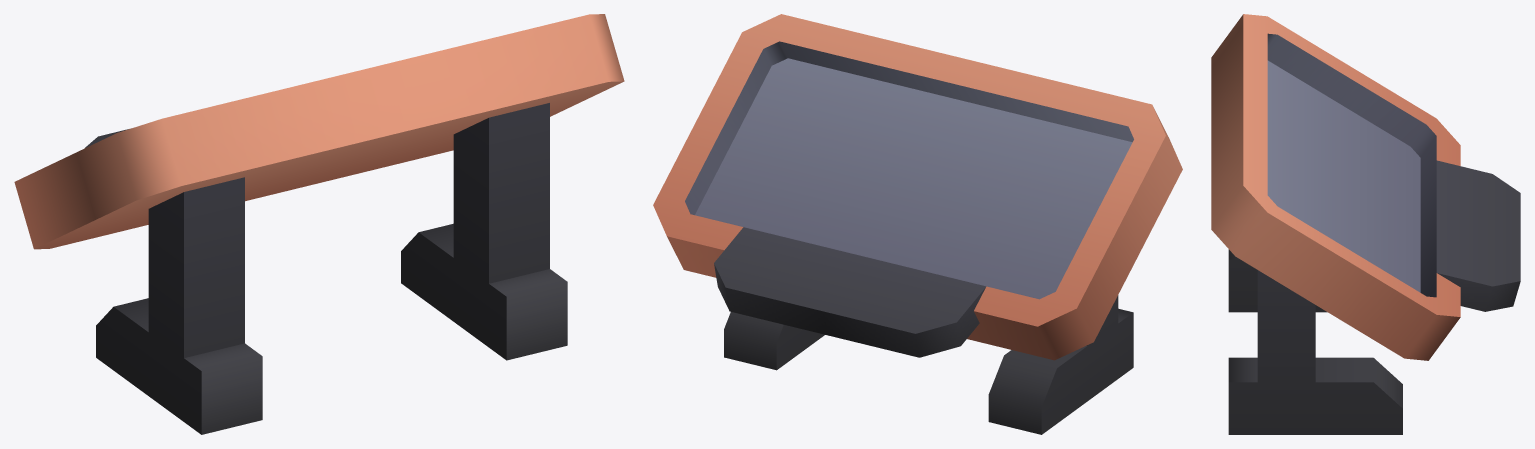
Rendered from screen-panel-flat.obj.
The picture shows the model from 3 angles, left to right: view 1: azimuth 30°, elevation 25°; view 2: azimuth 150°, elevation 25°; view 3: azimuth 270°, elevation 25°; orthographic projection. The views are drawn at different scales.
Visible parts, largest first — view 1: screen-panel-flat; view 2: screen-panel-flat; view 3: screen-panel-flat.
Part boxes in pixels (bbox=[...]): screen-panel-flat: bbox=[14, 14, 624, 434]; screen-panel-flat: bbox=[653, 14, 1182, 434]; screen-panel-flat: bbox=[1211, 14, 1520, 434].
Bounding box in the file's own units: 1.2 × 0.7453 × 0.7998.
